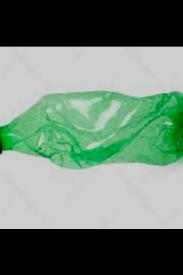Plastic: (0, 90, 182, 171)
